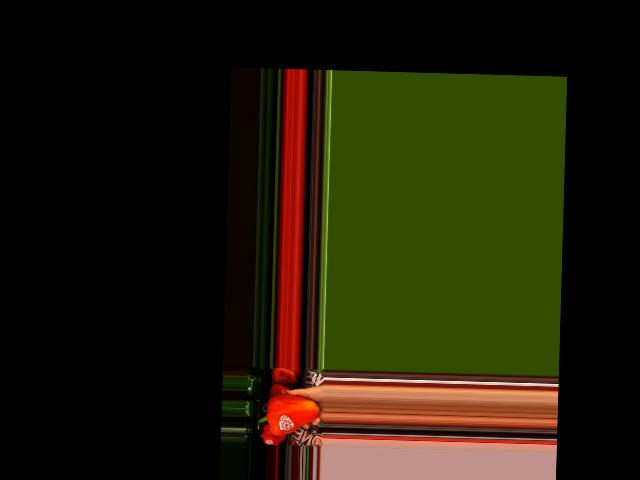bell_pepper: (256, 389, 319, 438)
